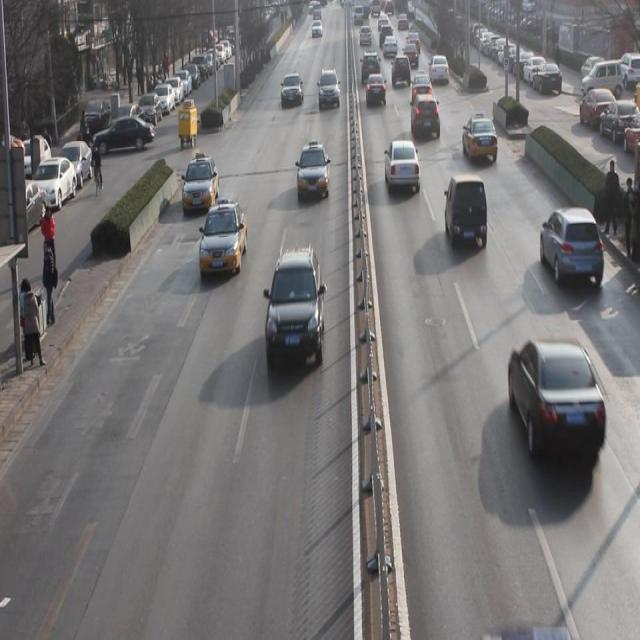car: (507, 334, 607, 472), (263, 248, 327, 368), (540, 205, 605, 288), (200, 201, 248, 277), (296, 141, 331, 205), (384, 138, 422, 195), (182, 154, 219, 212), (461, 114, 499, 162), (410, 94, 440, 138), (318, 66, 342, 110), (280, 73, 304, 108), (365, 70, 387, 108), (429, 53, 450, 88), (411, 69, 431, 105), (391, 54, 410, 87)
truck: (444, 173, 489, 254)
